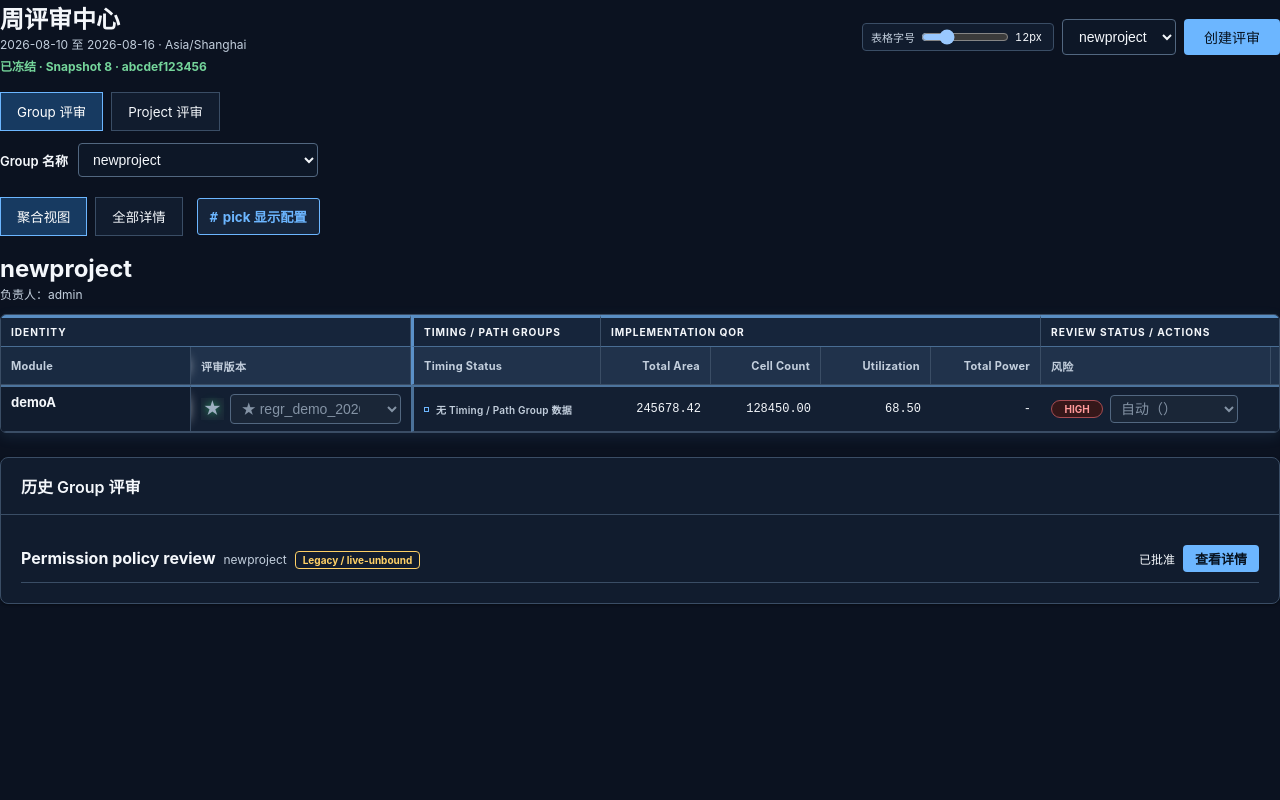
Test case: ReviewView timing controls › opens structured group history details with timeline
This screenshot has width=1280, height=800.
Step 1. Click the button with class "review-detail-button" → (1221, 558), box [1183, 545, 1259, 572]
(page scrolled)
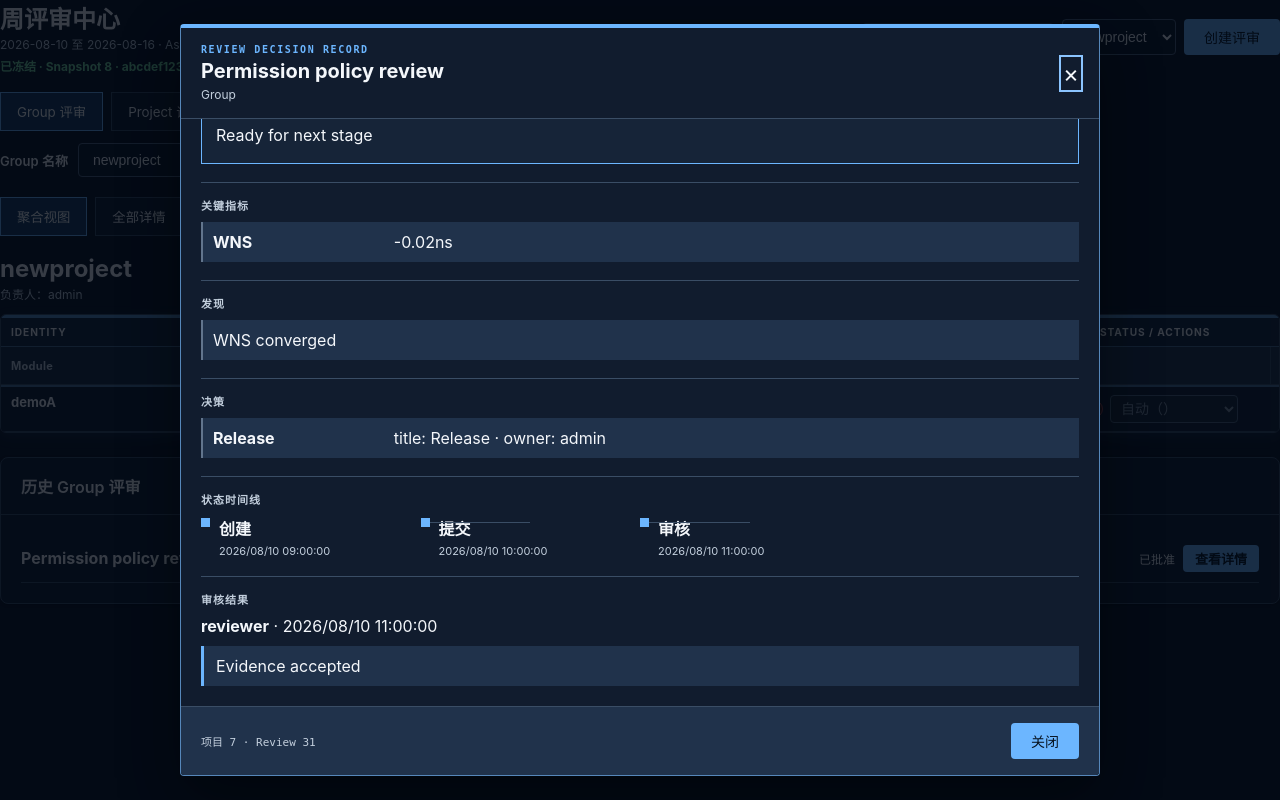
Expected: the dialog with class "review-detail-dialog" shows "Signoff summary", [201, 41, 330, 61]
Expected: the dialog with class "review-detail-dialog" shows "关键指标", [201, 199, 249, 213]
Expected: the dialog with class "review-detail-dialog" shows "WNS converged", [213, 330, 336, 350]
